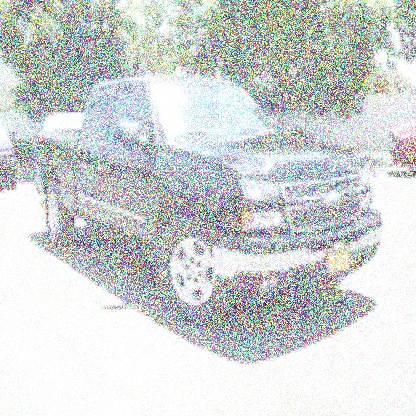Vehicle: (31, 64, 394, 336)
